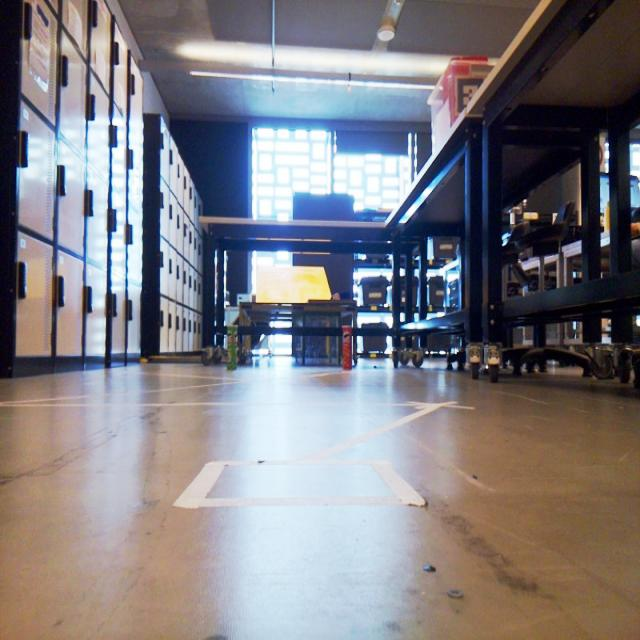greenpringles: (220, 316, 248, 372)
redpringles: (336, 316, 356, 375)
